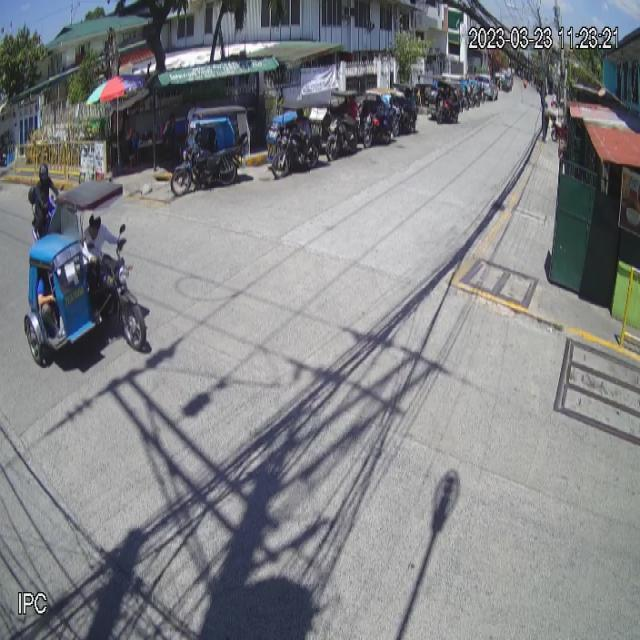Motorcycle: (28, 183, 66, 243)
Tricycle: (24, 178, 147, 377), (170, 102, 249, 198)
